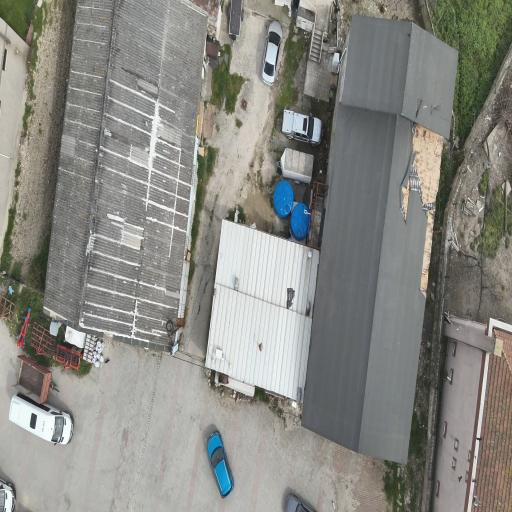car: (9, 393, 73, 444), (208, 431, 234, 498), (282, 110, 322, 145), (263, 21, 282, 85), (0, 479, 15, 511), (286, 494, 314, 511)
